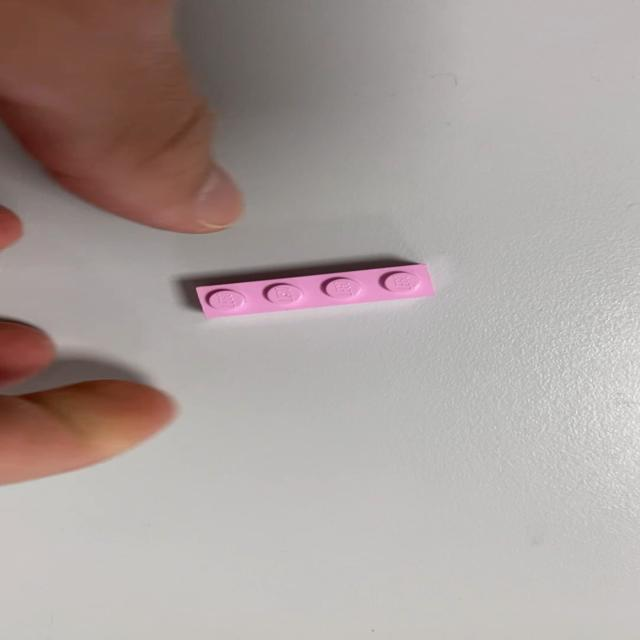C4x1x1: (193, 262, 436, 319)
